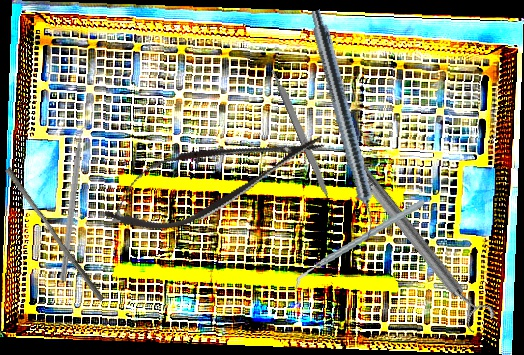Chopper: (283, 198, 435, 290), (59, 117, 95, 284)
Fixation Ring: (337, 144, 498, 336)
Handpiece: (303, 8, 385, 240)
Micro Scissor: (93, 107, 336, 249)
Pusher: (0, 166, 110, 303)
Scalpel Handle: (270, 67, 333, 200)
